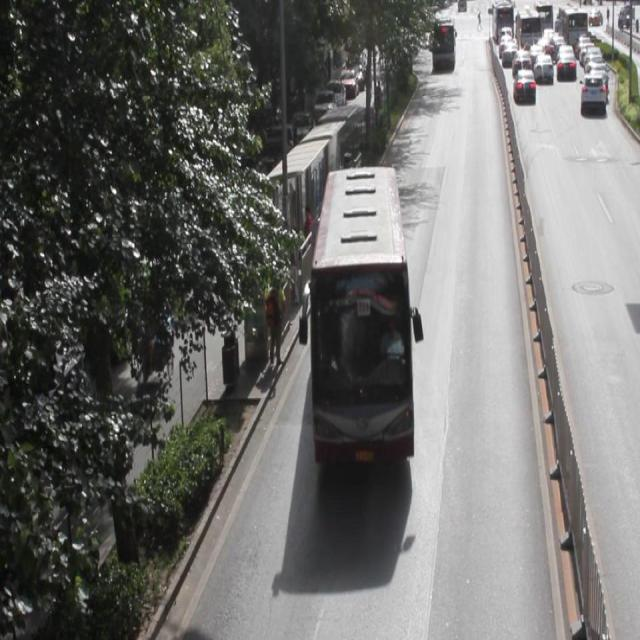van: (310, 167, 413, 462)
